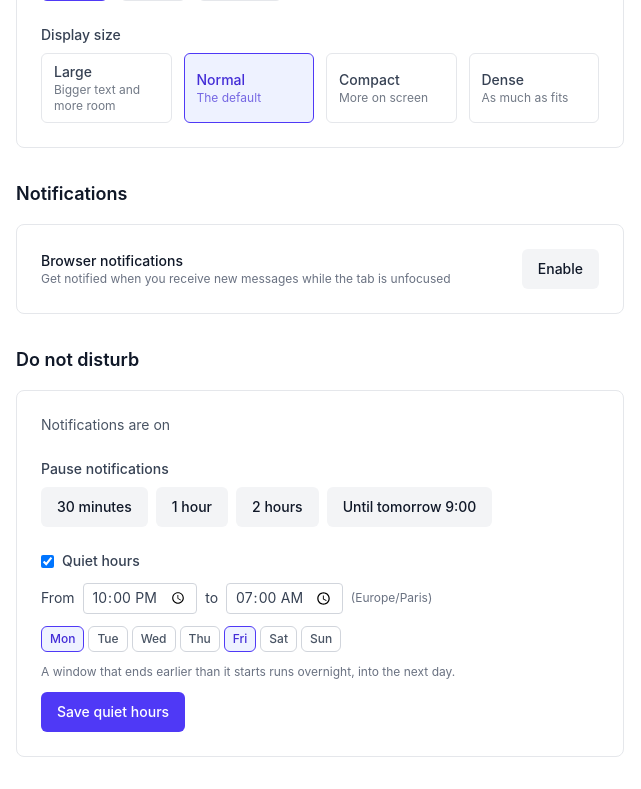
Test: the settings section › pauses for an hour and keeps the schedule
The image size is (641, 789).
(page scrolled)
Expected: the text "Pause notifications" is shown, [41, 460, 169, 477]
What coordinates should you click on to do the following:
click the button "1 hour"
I would click on:
 (192, 507)
Its box is [156, 487, 228, 527].
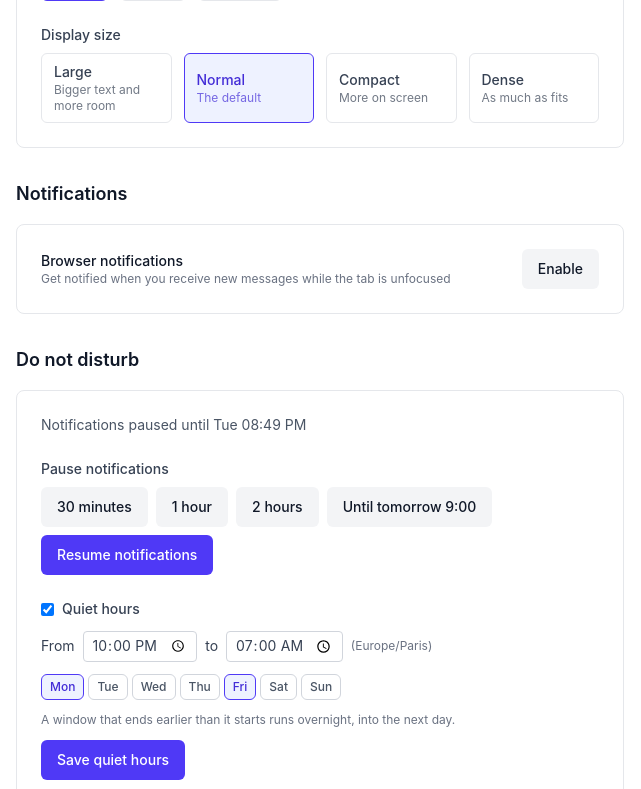
Now the text "Notifications paused until Tue 08:49 PM" is shown, box [41, 416, 306, 433]
